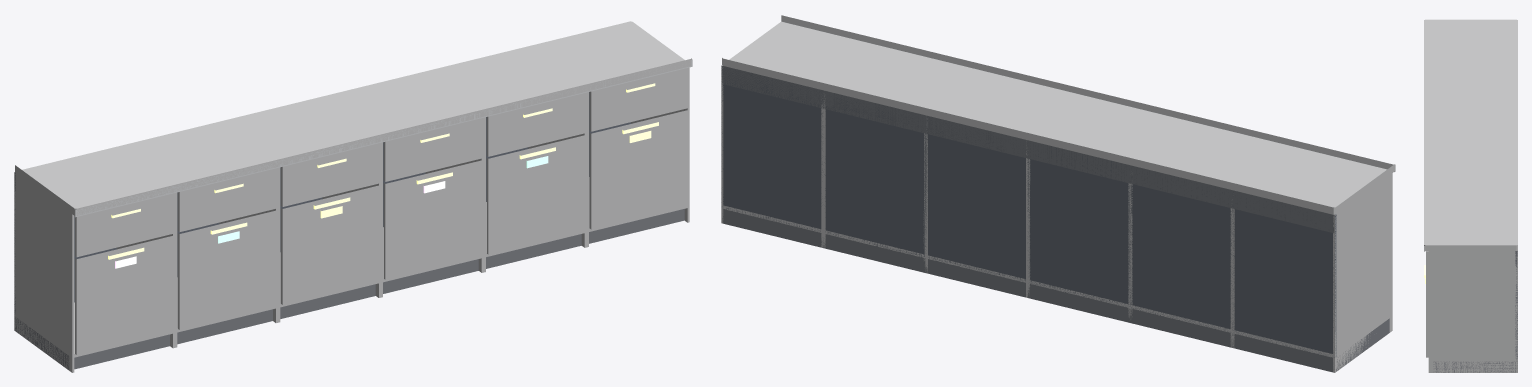
Rendered from iter_05.glb.
The picture shows the model from 3 angles, left to right: view 1: azimuth 30°, elevation 25°; view 2: azimuth 150°, elevation 25°; view 3: azimuth 270°, elevation 25°; orthographic projection. The views are drawn at different scales.
Parts seen in each view (by area): view 1: Bin_Fronts, Worktop, Uprights, Plinth, Worktop_Nosing, Bottom_Panel, Pull_Latches, Back_Panel; view 2: Back_Panel, Worktop, Uprights, Wall_Rail, Plinth, Worktop_Nosing, Bottom_Panel; view 3: Worktop, Uprights, Plinth, Bin_Fronts, Back_Panel, Bottom_Panel.
Part boxes in pixels (x1,y1,x2,y2): Bin_Fronts: [75, 67, 688, 354]; Worktop: [15, 21, 691, 215]; Uprights: [14, 67, 689, 372]; Plinth: [14, 209, 684, 369]; Worktop_Nosing: [74, 59, 692, 217]; Bottom_Panel: [15, 177, 687, 357]; Pull_Latches: [108, 83, 658, 259]; Back_Panel: [14, 92, 630, 314]; Back_Panel: [721, 66, 1336, 357]; Worktop: [722, 21, 1394, 214]; Uprights: [721, 65, 1392, 372]; Wall_Rail: [722, 66, 1336, 233]; Plinth: [722, 209, 1389, 372]; Worktop_Nosing: [781, 15, 1395, 171]; Bottom_Panel: [723, 205, 1392, 357]; Worktop: [1424, 19, 1517, 250]; Uprights: [1428, 251, 1517, 372]; Plinth: [1433, 361, 1517, 372]; Bin_Fronts: [1426, 251, 1428, 357]; Back_Panel: [1515, 251, 1517, 361]; Bottom_Panel: [1428, 358, 1517, 361].
Size of the model in its own units: 3.5 by 0.9 by 0.6.
